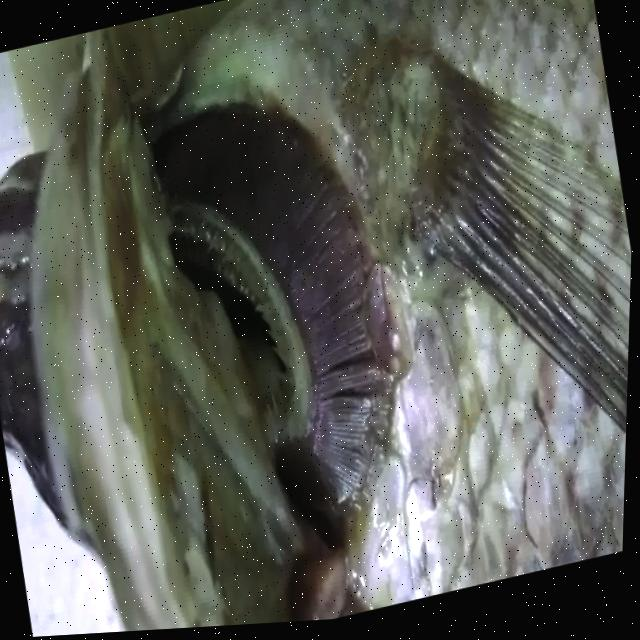Non-Fresh: (129, 49, 461, 599)
